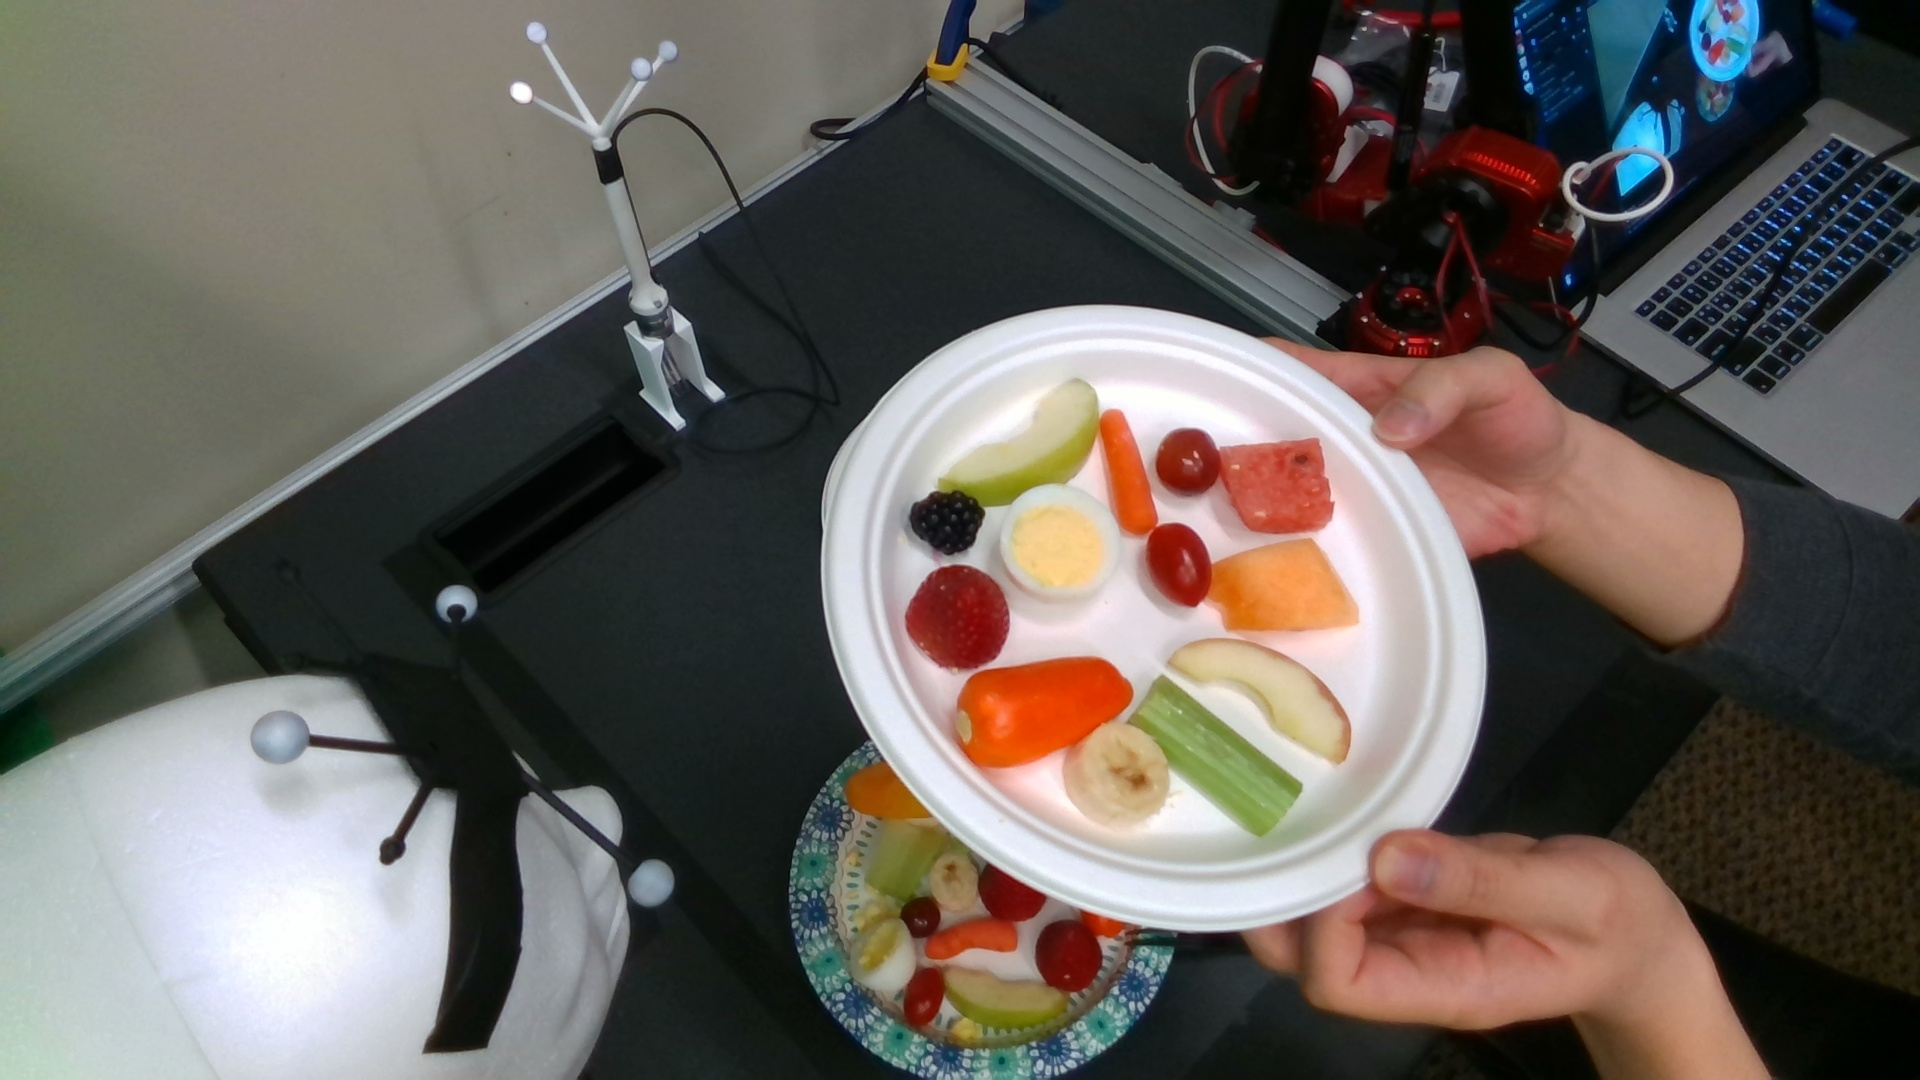apple: (1170, 640, 1352, 761), (940, 381, 1098, 508), (942, 965, 1069, 1025)
banana: (1067, 723, 1167, 824), (930, 853, 977, 913)
bell_pepper: (957, 655, 1131, 767)
blackberry: (913, 495, 982, 551)
cantalope: (1213, 538, 1360, 632)
carrot: (1102, 411, 1154, 533), (927, 919, 1015, 959)
celery: (1135, 675, 1302, 837), (870, 822, 943, 898)
cherry_tomato: (1150, 524, 1211, 608), (907, 969, 944, 1025)
egg: (1002, 485, 1118, 596), (852, 918, 913, 989)
grape_purple: (1158, 429, 1218, 493), (901, 898, 939, 936)
melon: (1222, 436, 1332, 534)
strawberry: (907, 567, 1009, 669), (981, 853, 1047, 920), (1038, 922, 1100, 990)
